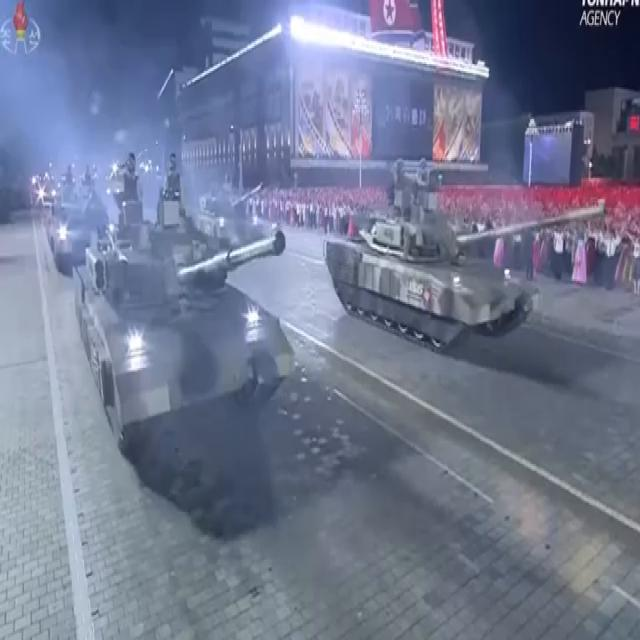north tank: (330, 124, 624, 378), (73, 154, 304, 442)
